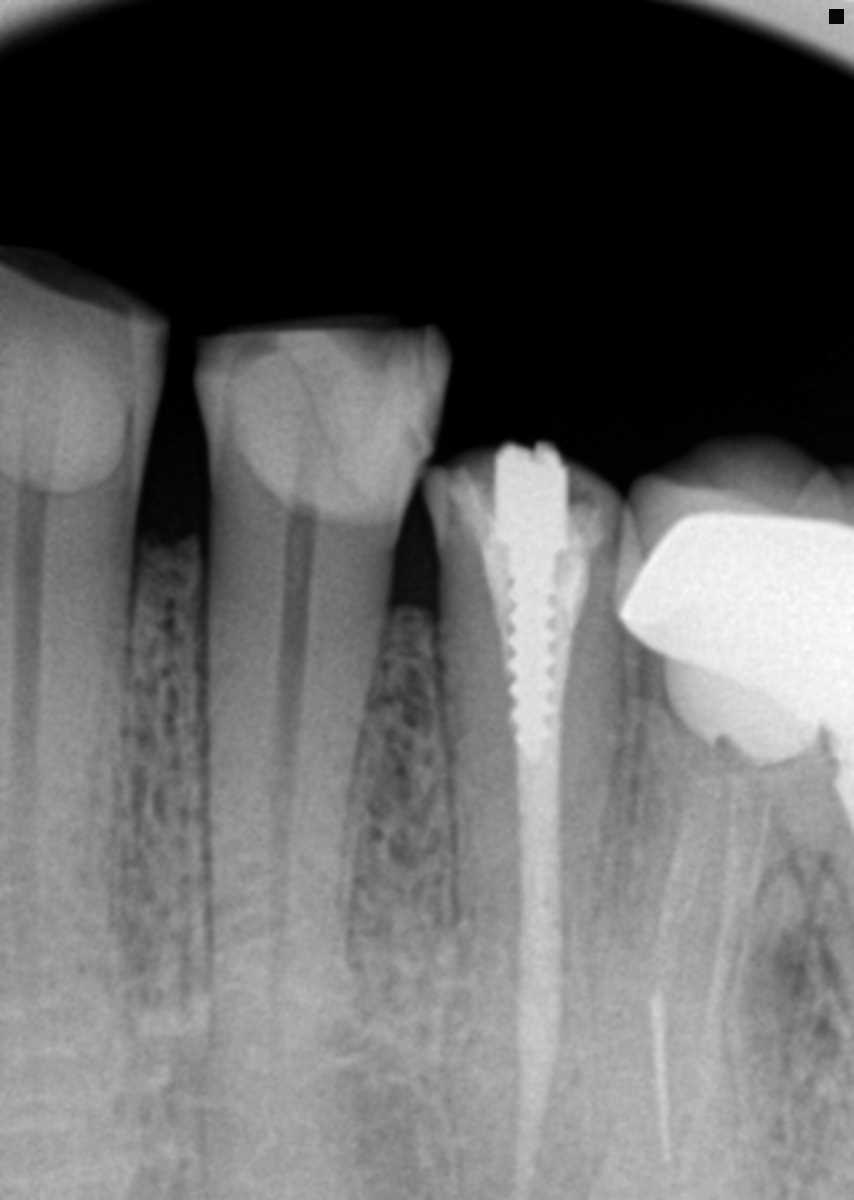Main Canal: (267, 582, 317, 1033), (0, 531, 43, 911)
Main Root: (200, 542, 393, 1200), (432, 642, 635, 1200), (0, 521, 138, 1191)
Mesial Root: (614, 660, 833, 1200)
Root Canal Filling: (680, 773, 780, 1189), (516, 757, 566, 1200), (651, 776, 723, 995)
